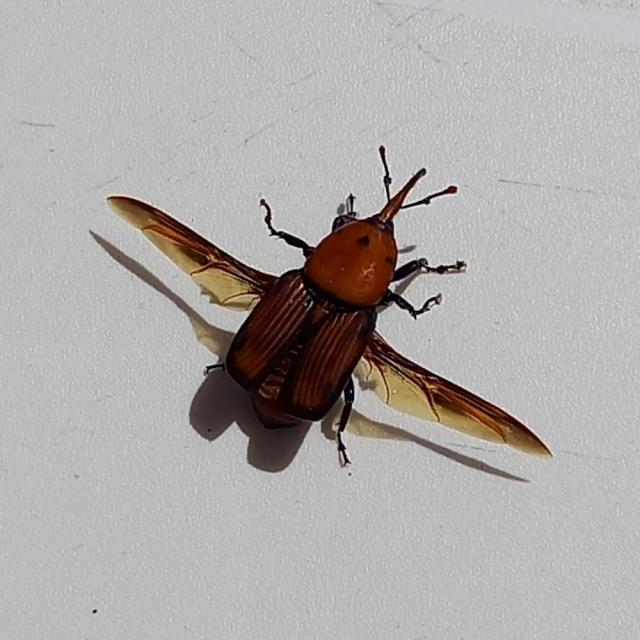Red-palm-weevil: (195, 151, 450, 471)
